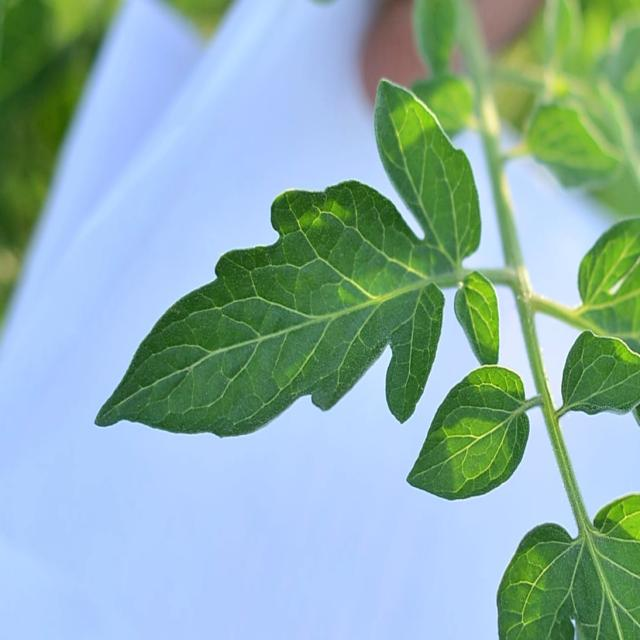healthy: (91, 78, 538, 504), (559, 327, 640, 423)
